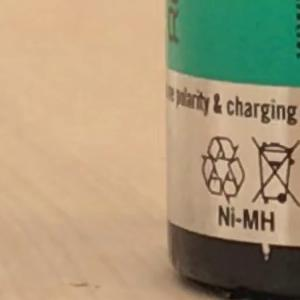keyword: (209, 201, 284, 236)
